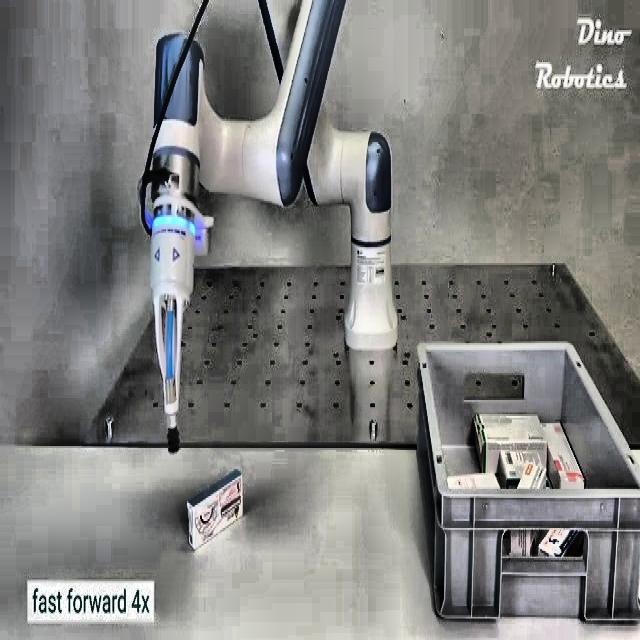robot: (138, 0, 398, 452)
